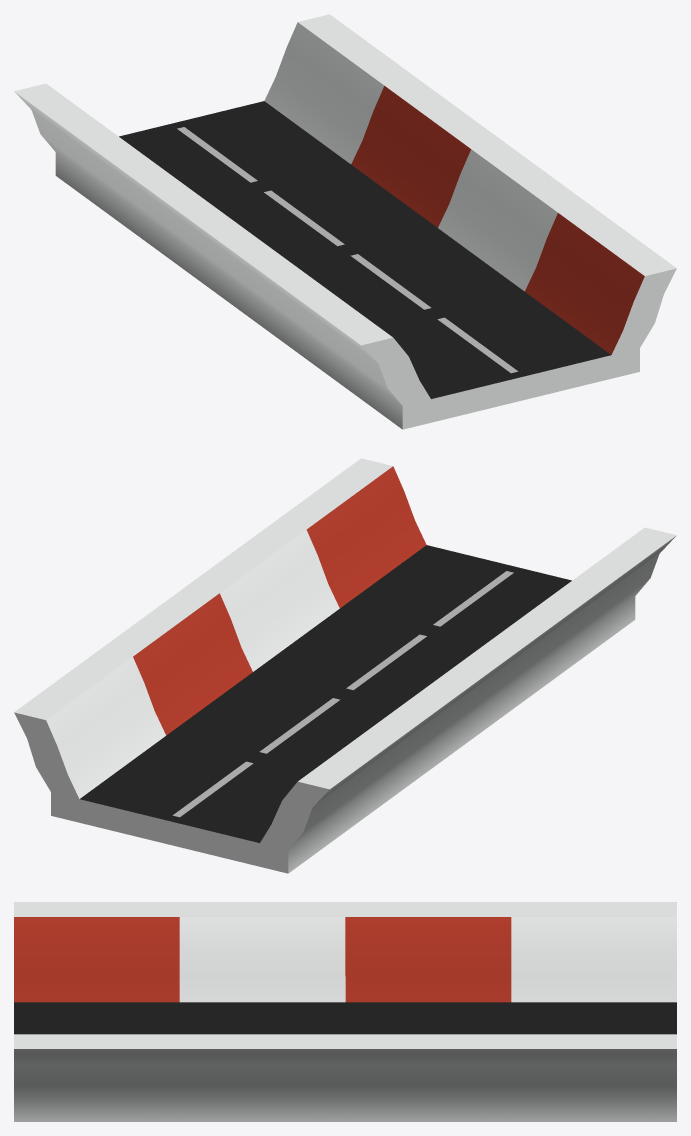
The model's file is duong thang  red.fbx.
3 views of the same model, one above another, from view 1: azimuth 30°, elevation 25°; view 2: azimuth 150°, elevation 25°; view 3: azimuth 270°, elevation 25° (orthographic). The views are drawn at different scales.
Parts seen in each view (by area): view 1: duong_thang; view 2: duong_thang; view 3: duong_thang.
Part boxes in pixels (x1=…): duong_thang: x1=14, y1=14, x2=676, y2=429; duong_thang: x1=14, y1=458, x2=676, y2=873; duong_thang: x1=14, y1=902, x2=676, y2=1121.
Bounding box in the file's own units: 21 × 6 × 40.
1 material, 1 textured.
